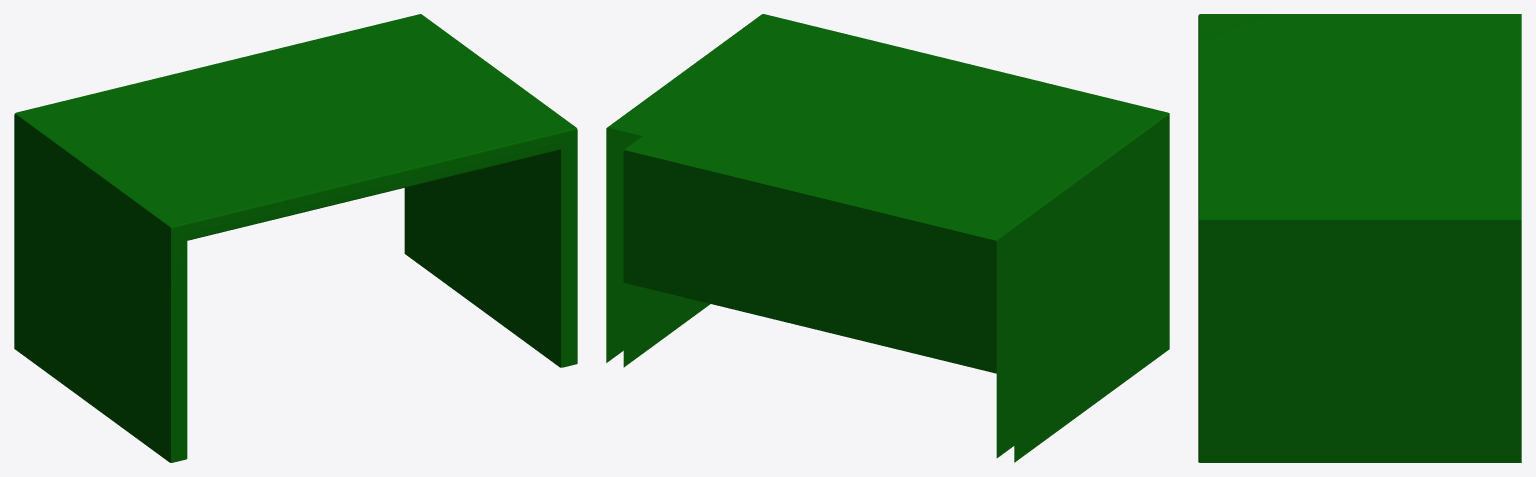
Rendered from Desk.fbx.
3 views of the same model, side by side, from view 1: azimuth 30°, elevation 25°; view 2: azimuth 150°, elevation 25°; view 3: azimuth 270°, elevation 25° (orthographic). The views are drawn at different scales.
Visible parts, largest first — view 1: Desk; view 2: Desk; view 3: Desk.
Part boxes in pixels (x1,y1,x2,y2): Desk: (14, 14, 577, 462); Desk: (606, 14, 1169, 462); Desk: (1198, 14, 1521, 462).
Bounding box in the file's own units: 139 × 77.13 × 92.56.
